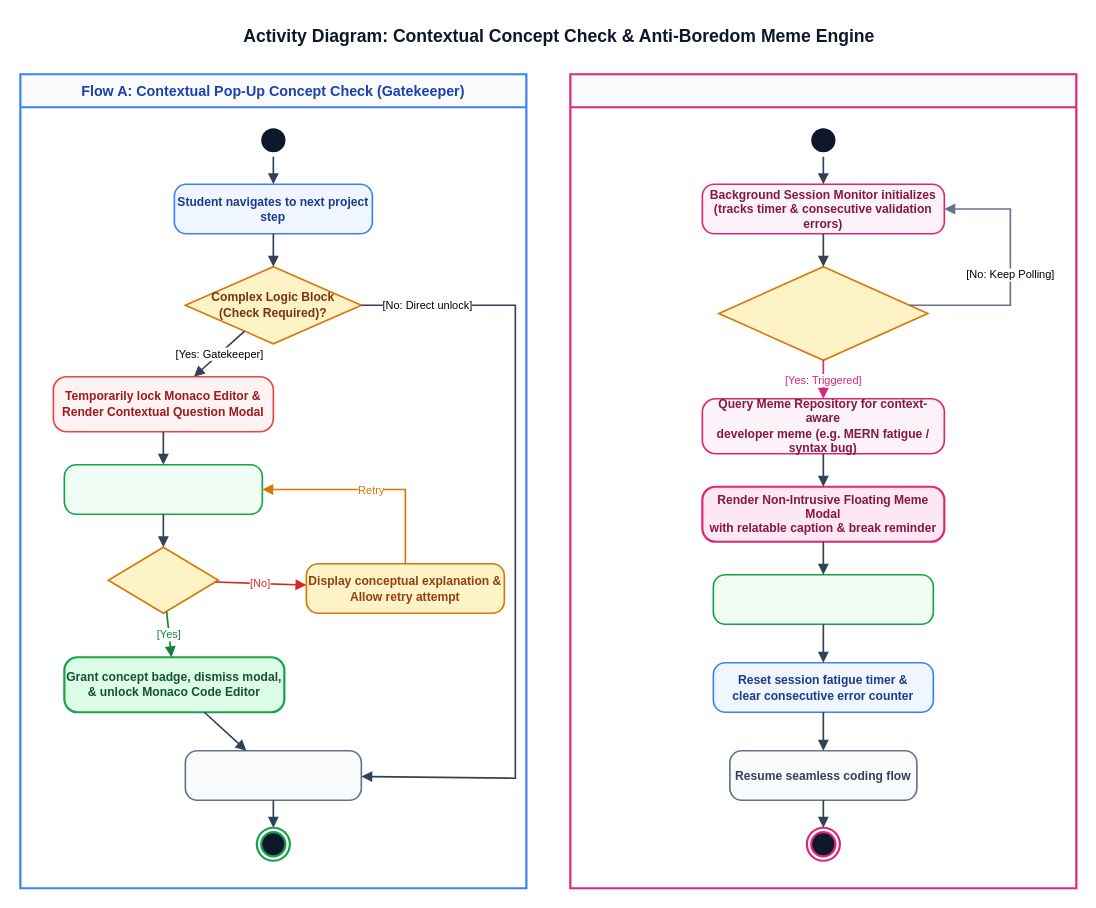
This 1096x908 diagram has some shape labels left out. The box of each missing label's shape, as (x1, y1, x2, y2) in pixels:
Answer Correct?: (107, 546, 219, 614)
Flow B: Anti-Boredom Meme Engine: (569, 73, 1077, 889)
Student begins hands-on coding: (184, 749, 362, 801)
Student laughs / reacts / dismisses modal: (712, 573, 934, 625)
Student submits answer / fills blank: (63, 463, 263, 515)
Trigger Threshold Reached? (25 min coding OR 3 consecutive errors): (718, 265, 928, 361)
